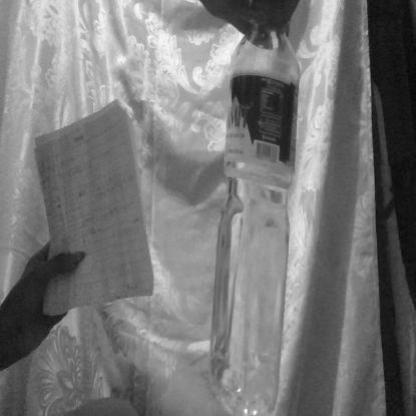Plastic Bottle: (212, 10, 304, 416)
